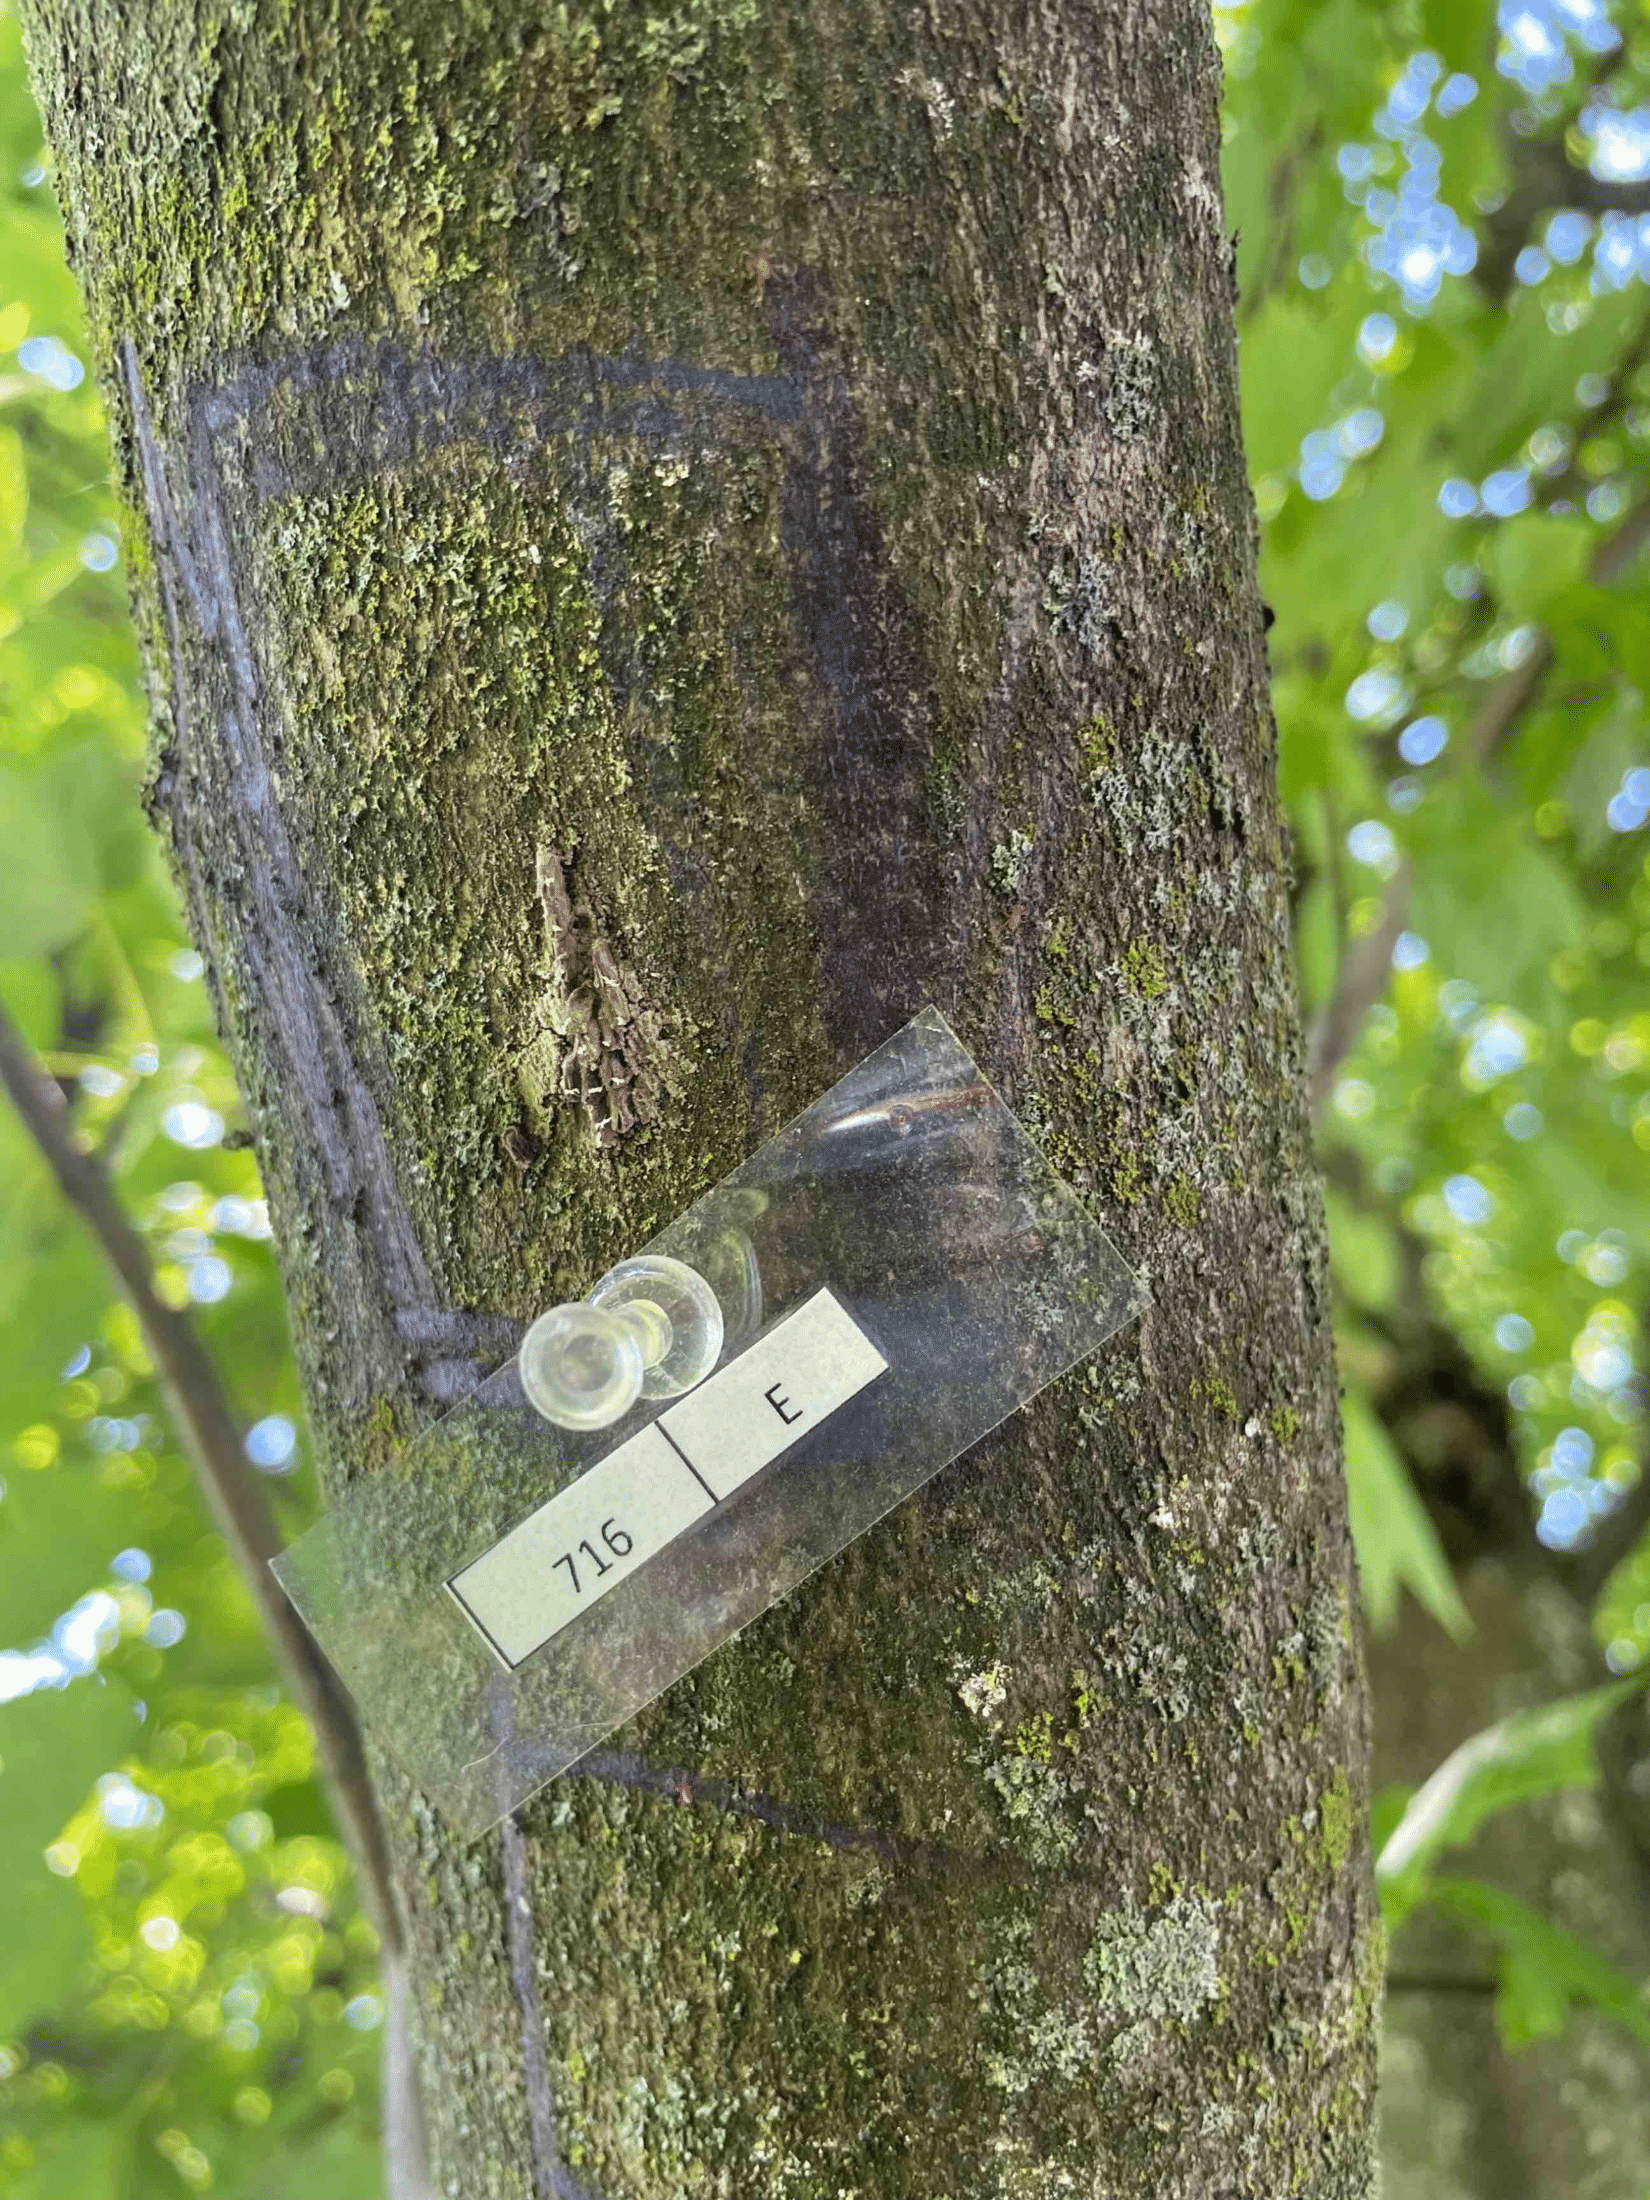egg masses: (492, 814, 683, 1152)
